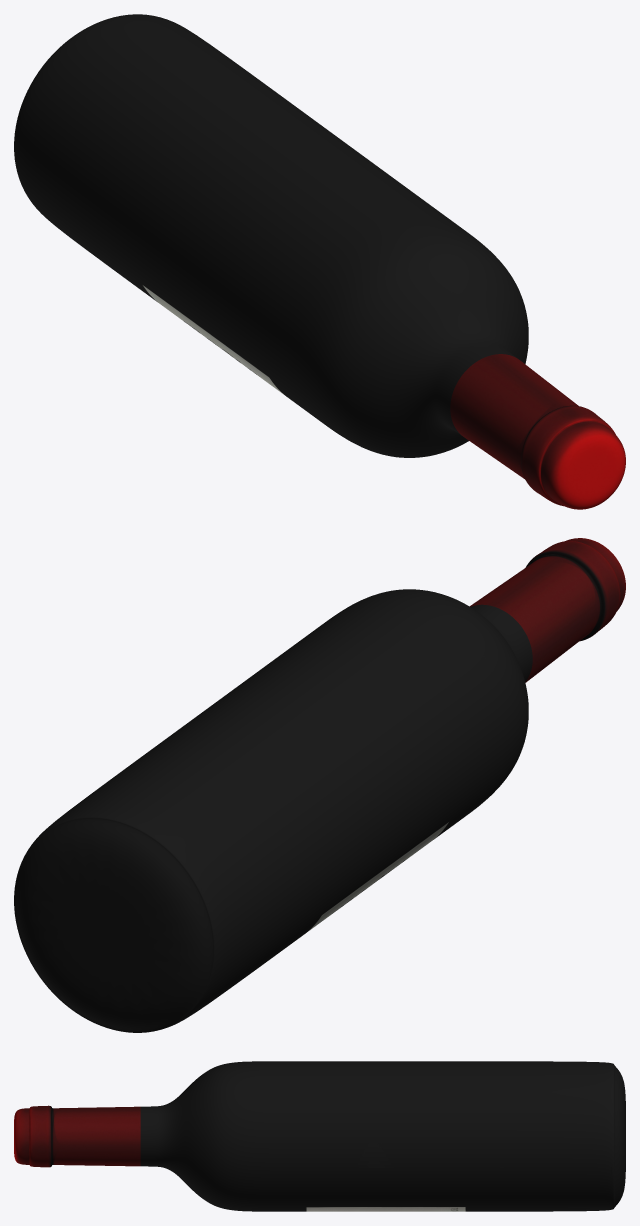
The model's file is wineBottle.gltf.
The picture shows the model from 3 angles, top to bottom: view 1: azimuth 30°, elevation 25°; view 2: azimuth 150°, elevation 25°; view 3: azimuth 270°, elevation 25°; orthographic projection. The views are drawn at different scales.
Parts seen in each view (by area): view 1: 14042_750_mL_Wine_Bottle_r_v1_L3; view 2: 14042_750_mL_Wine_Bottle_r_v1_L3; view 3: 14042_750_mL_Wine_Bottle_r_v1_L3.
Part boxes in pixels (x1=…): 14042_750_mL_Wine_Bottle_r_v1_L3: x1=14, y1=14, x2=625, y2=509; 14042_750_mL_Wine_Bottle_r_v1_L3: x1=14, y1=538, x2=625, y2=1032; 14042_750_mL_Wine_Bottle_r_v1_L3: x1=14, y1=1061, x2=625, y2=1211.
Bounding box in the file's own units: 5.19 × 5.19 × 21.16.
1 material, 1 textured.
